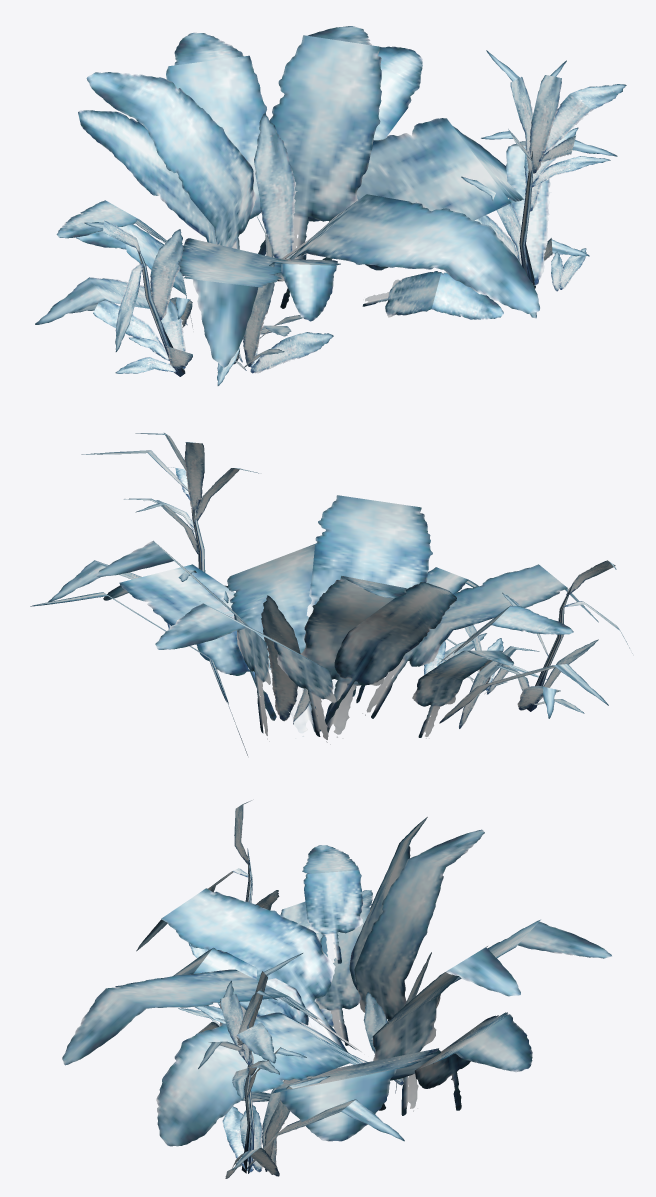
File: bs_cao_4.FBX
The picture shows the model from 3 angles, top to bottom: view 1: azimuth 30°, elevation 25°; view 2: azimuth 150°, elevation 25°; view 3: azimuth 270°, elevation 25°; orthographic projection. The views are drawn at different scales.
Parts seen in each view (by area): view 1: bs_cao_4; view 2: bs_cao_4; view 3: bs_cao_4.
Boxes of the visible parts, x1=… form: bs_cao_4: x1=35, y1=26, x2=626, y2=385; bs_cao_4: x1=30, y1=433, x2=632, y2=755; bs_cao_4: x1=62, y1=800, x2=611, y2=1178.
Bounding box in the file's own units: 783 × 330 × 749.
